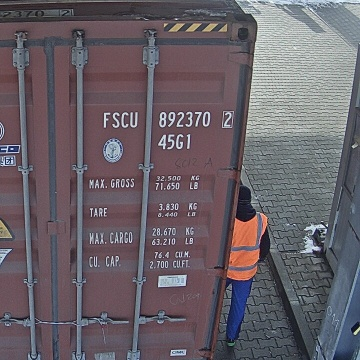serial_id: (104, 111, 232, 128)
